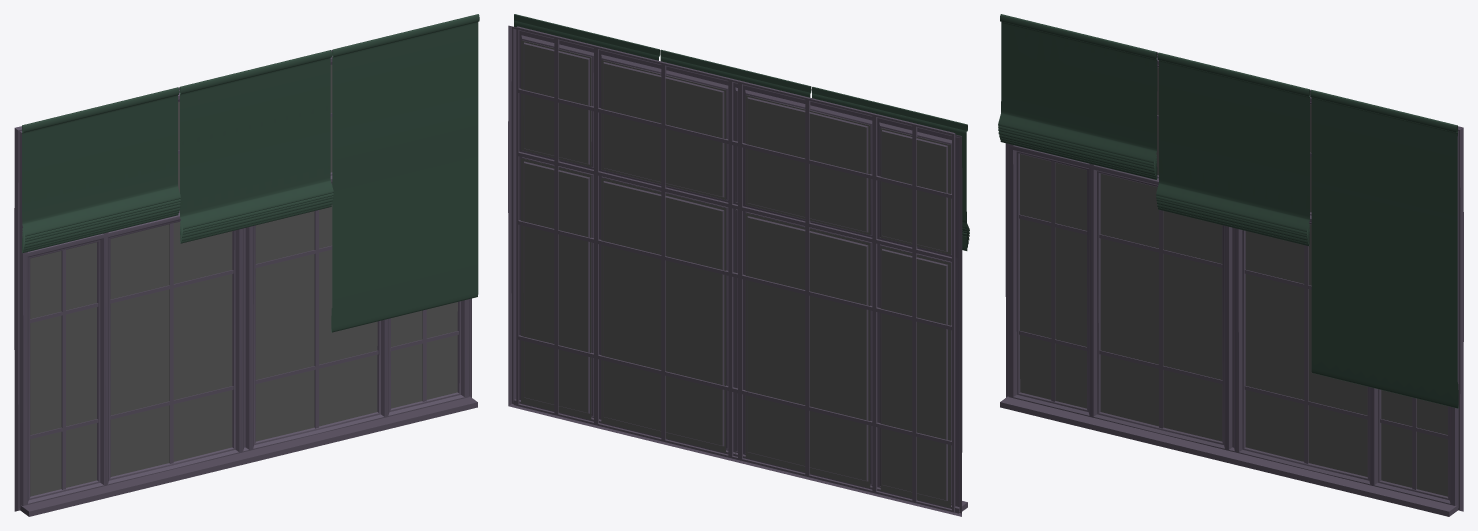
File: Glass001.FBX
3 renders of one model, left to right at view 1: azimuth 30°, elevation 25°; view 2: azimuth 150°, elevation 25°; view 3: azimuth 330°, elevation 25°, orthographic.
Parts seen in each view (by area): view 1: Glass001; view 2: Glass001; view 3: Glass001.
Part boxes in pixels (bbox=[...]): Glass001: bbox=[14, 14, 479, 516]; Glass001: bbox=[508, 14, 969, 516]; Glass001: bbox=[998, 14, 1463, 516].
Bounding box in the file's own units: 10.88 × 8.87 × 0.4235.
Materials: 3 (3 with a texture image).
